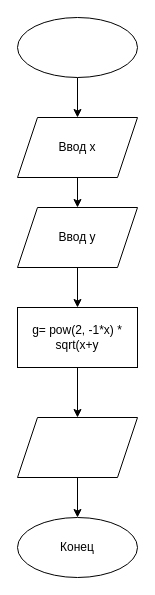
The diagram is 155 pixels wide and 595 high, and some of its shapes have lost their labels. The shapes that lost their labels are listed below. From the top down, each one's centre as x and y in pixels, then its label:
[77,47]: Начало
[77,447]: Вывод x, y, g
